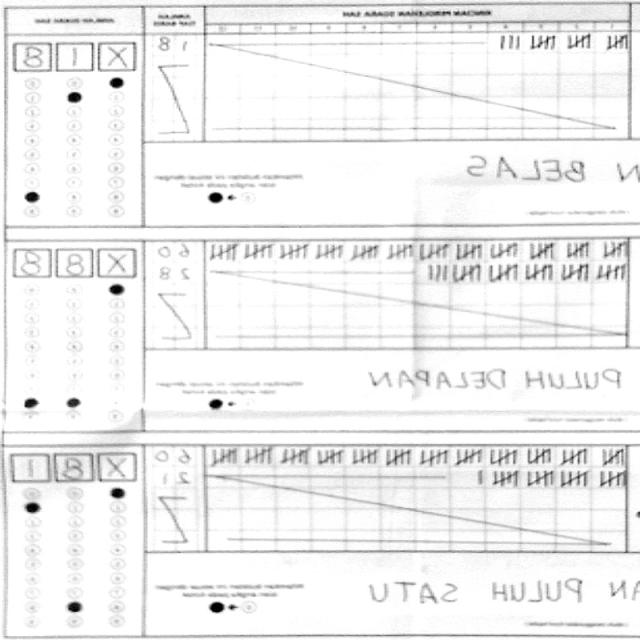Suara: (10, 242, 142, 280), (10, 447, 140, 482), (8, 38, 134, 70)
